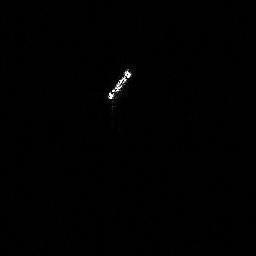ship: (106, 63, 136, 105)
